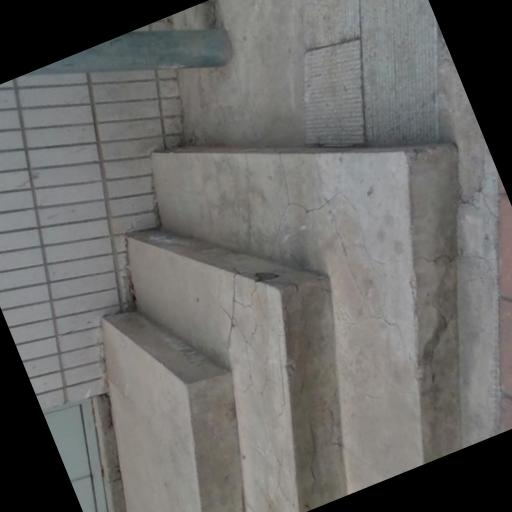stairs: (104, 143, 460, 511)
